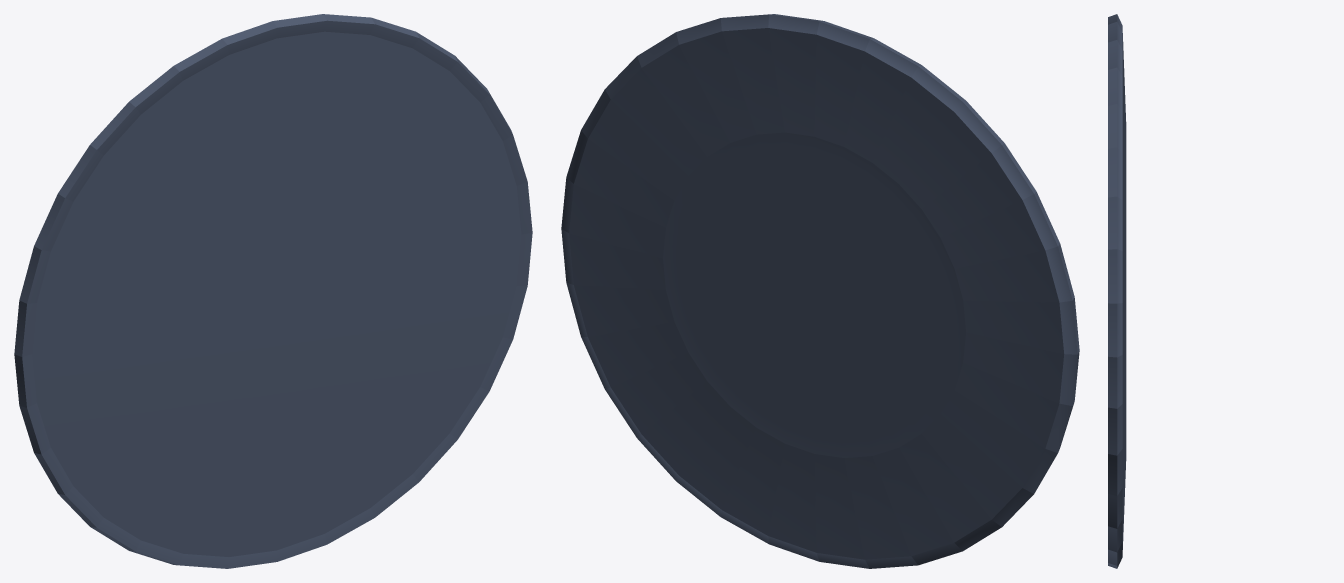
The model's file is BodymeshMicrowaveA3_0_GeomSubset_3.obj.
The picture shows the model from 3 angles, left to right: view 1: azimuth 30°, elevation 25°; view 2: azimuth 150°, elevation 25°; view 3: azimuth 270°, elevation 25°; orthographic projection. The views are drawn at different scales.
Parts seen in each view (by area): view 1: BodymeshMicrowaveA3_0_GeomSubset_3; view 2: BodymeshMicrowaveA3_0_GeomSubset_3; view 3: BodymeshMicrowaveA3_0_GeomSubset_3.
Boxes of the visible parts, x1,y1,x2,y2 form: BodymeshMicrowaveA3_0_GeomSubset_3: (14,14,532,568); BodymeshMicrowaveA3_0_GeomSubset_3: (561,14,1079,568); BodymeshMicrowaveA3_0_GeomSubset_3: (1108,14,1126,568).
Size of the model in its own units: 0.2256 by 0.2256 by 0.0901.
